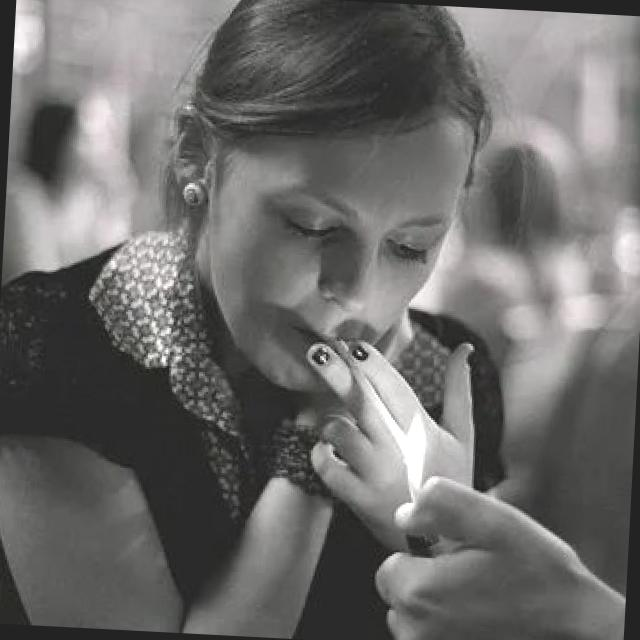cigarette: (321, 334, 421, 464)
